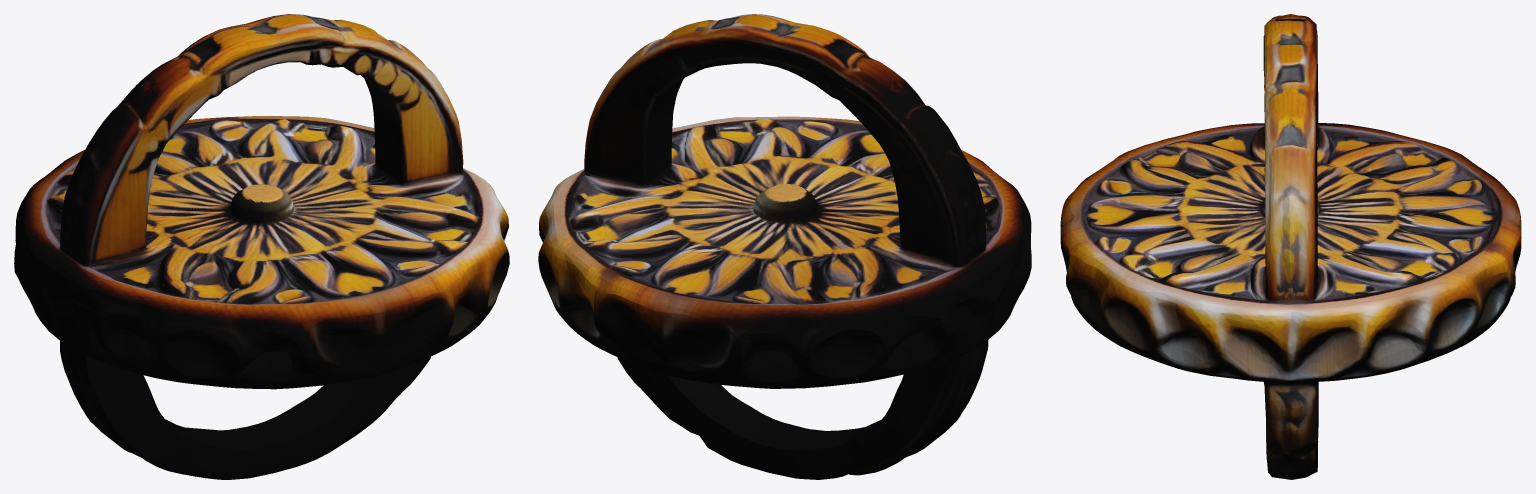
File: wooden-button-art-deco.jpeg.glb
3 views of the same model, side by side, from view 1: azimuth 30°, elevation 25°; view 2: azimuth 150°, elevation 25°; view 3: azimuth 270°, elevation 25° (orthographic). The views are drawn at different scales.
Visible parts, largest first — view 1: world; view 2: world; view 3: world.
Boxes of the visible parts, x1,y1,x2,y2 form: world: (14, 14, 509, 479); world: (538, 14, 1031, 479); world: (1060, 14, 1521, 479).
Size of the model in its own units: 0.9992 by 0.9993 by 0.999.
1 material, 1 textured.
